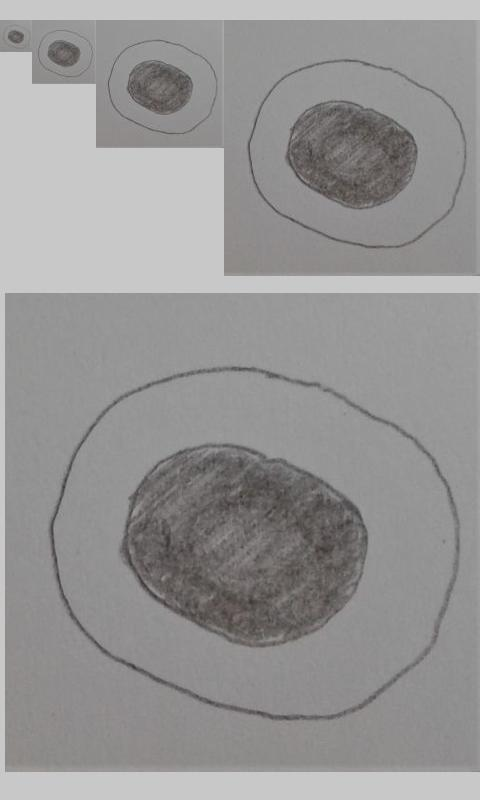radio_button: (46, 361, 464, 724), (242, 55, 469, 253), (106, 38, 219, 136), (36, 28, 95, 78), (2, 23, 31, 50)
